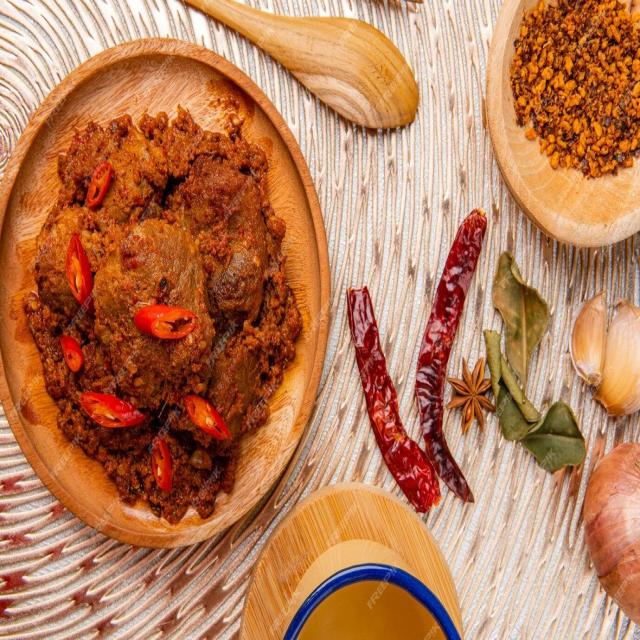Rendang: (17, 89, 326, 516)
